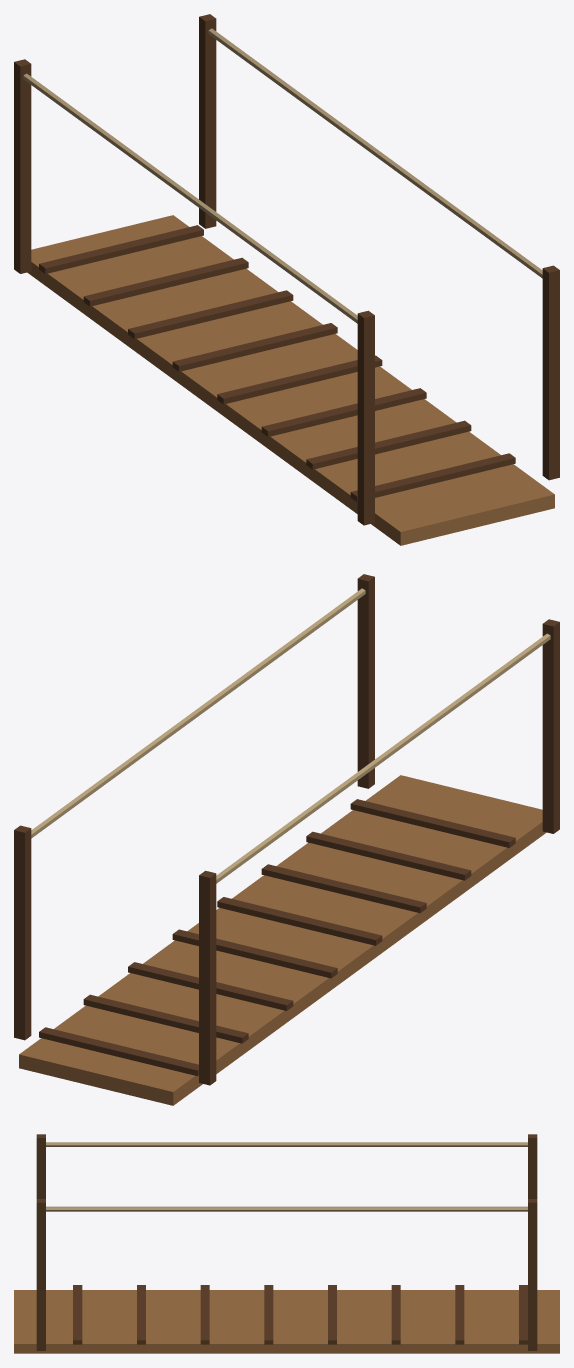
File: gangplank.glb
3 views of the same model, one above another, from view 1: azimuth 30°, elevation 25°; view 2: azimuth 150°, elevation 25°; view 3: azimuth 270°, elevation 25° (orthographic). The views are drawn at different scales.
Parts seen in each view (by area): view 1: gangplank; view 2: gangplank; view 3: gangplank.
Boxes of the visible parts, x1,y1,x2,y2 form: gangplank: (14,14,559,545); gangplank: (14,574,559,1105); gangplank: (14,1134,559,1353).
Size of the model in its own units: 0.89 by 0.96 by 3.
